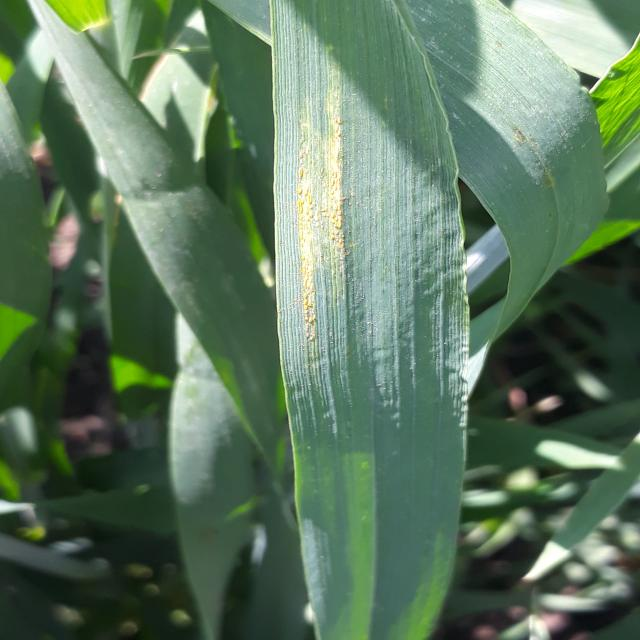yellow_rust: (256, 0, 498, 512)
